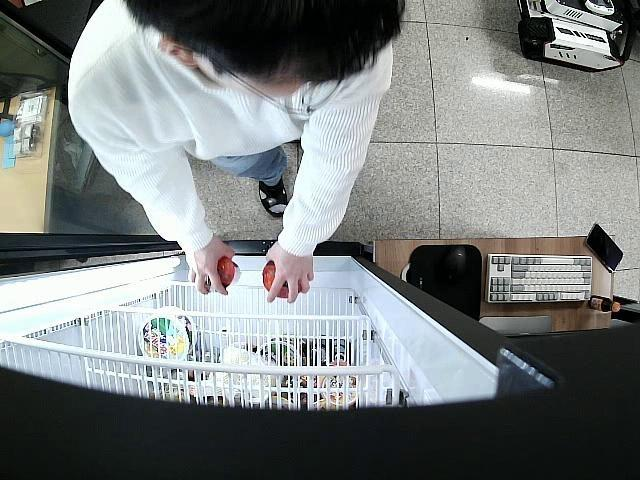02_shinRamen_S: (260, 258, 302, 299), (205, 256, 241, 290)
